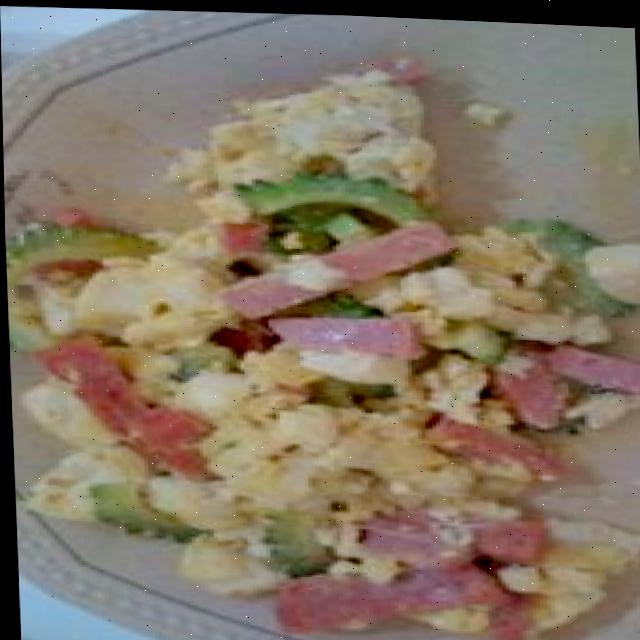蔬菜料理: (1, 46, 640, 636)
